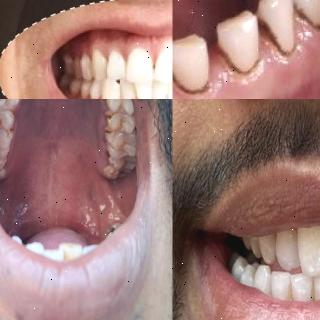cavities: (114, 165, 127, 179)
maligned: (298, 222, 320, 276), (270, 230, 302, 264), (101, 78, 122, 99)
plaque: (136, 89, 166, 99)
stains: (218, 20, 264, 70), (257, 20, 297, 56), (172, 63, 208, 93), (100, 162, 136, 183), (295, 0, 320, 29), (283, 278, 300, 314), (0, 120, 18, 152), (104, 110, 127, 134), (0, 107, 20, 128), (102, 125, 114, 152), (106, 148, 118, 168), (103, 99, 121, 111), (0, 154, 10, 174), (309, 280, 317, 304), (8, 99, 26, 104)
